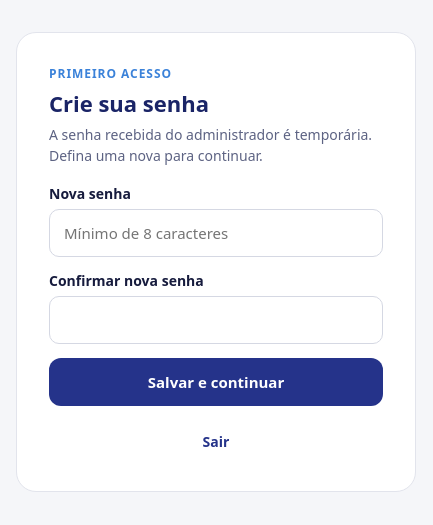
Test: troca de senha obrigatória › recusa confirmação diferente
Check: the heading "Crie sua senha" is shown, box [49,88,209,118]
Type "nova-senha-456" into the password field labelled "Nova senha" at coordinates (216, 233), box [49,209,383,257]
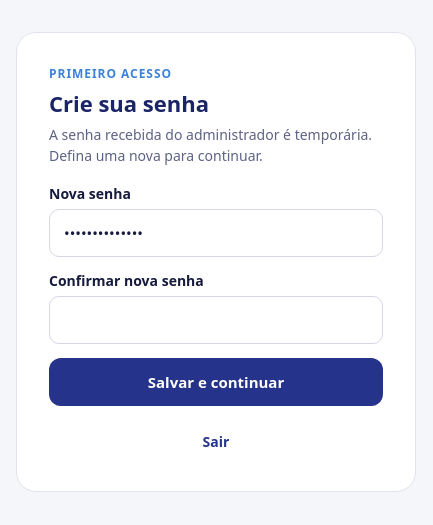
Type "outra-senha-789" into the password field labelled "Confirmar nova senha" at coordinates (216, 320), box [49,296,383,344]
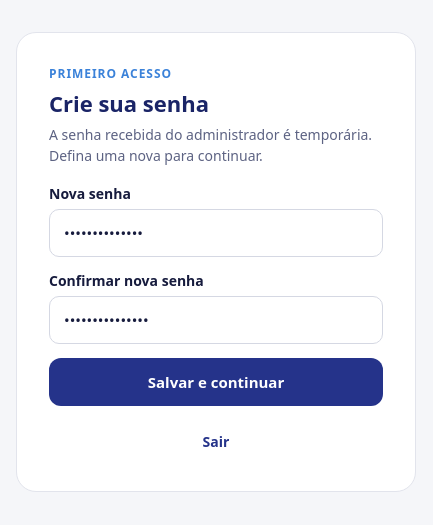
Click the button "Salvar e continuar" at coordinates (216, 382), box [49,358,383,406]
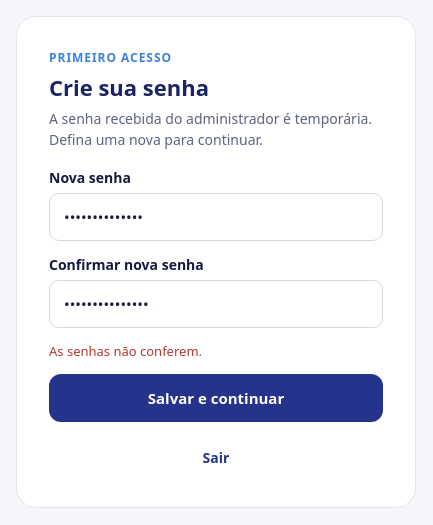
Check: the message reads "As senhas não conferem.", box [49,342,202,360]
